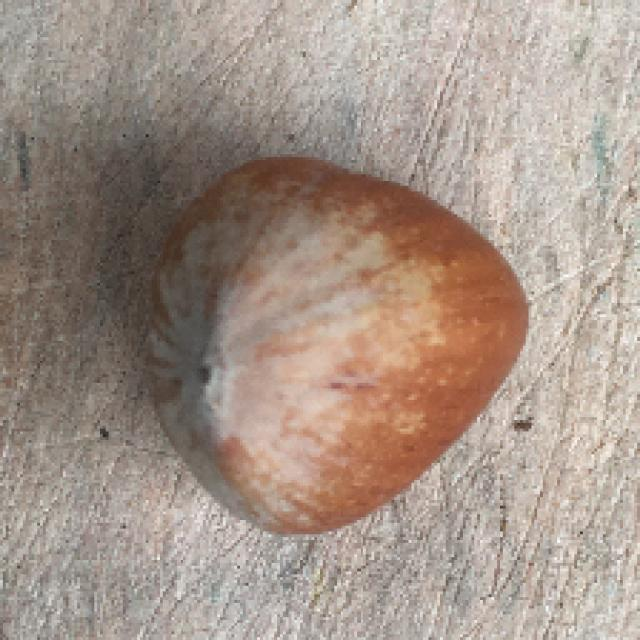qualityHazelnut: (145, 152, 532, 543)
